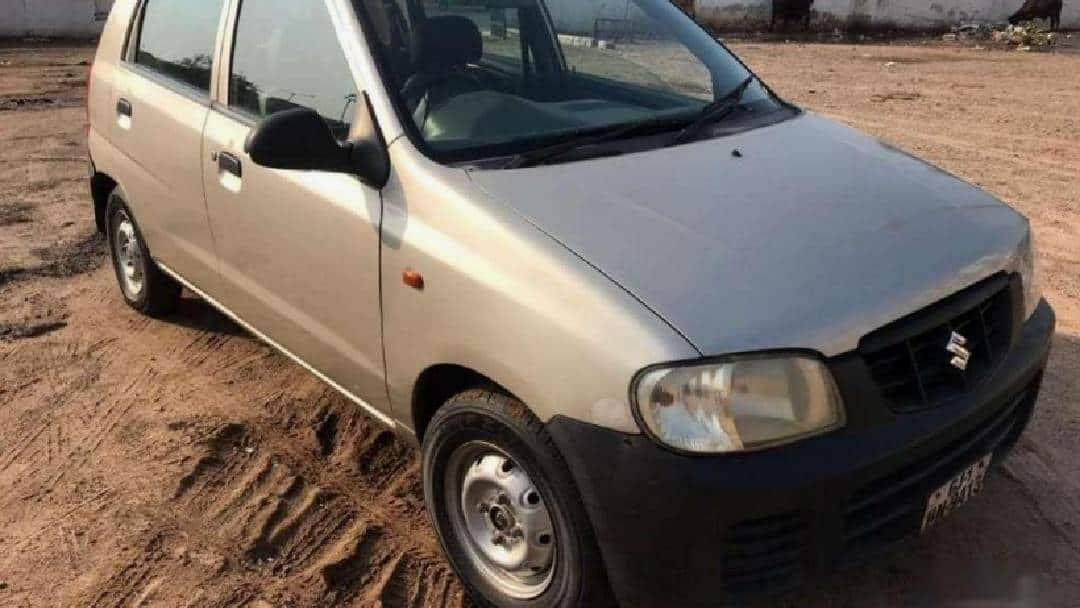suzuki: (936, 325, 981, 375)
